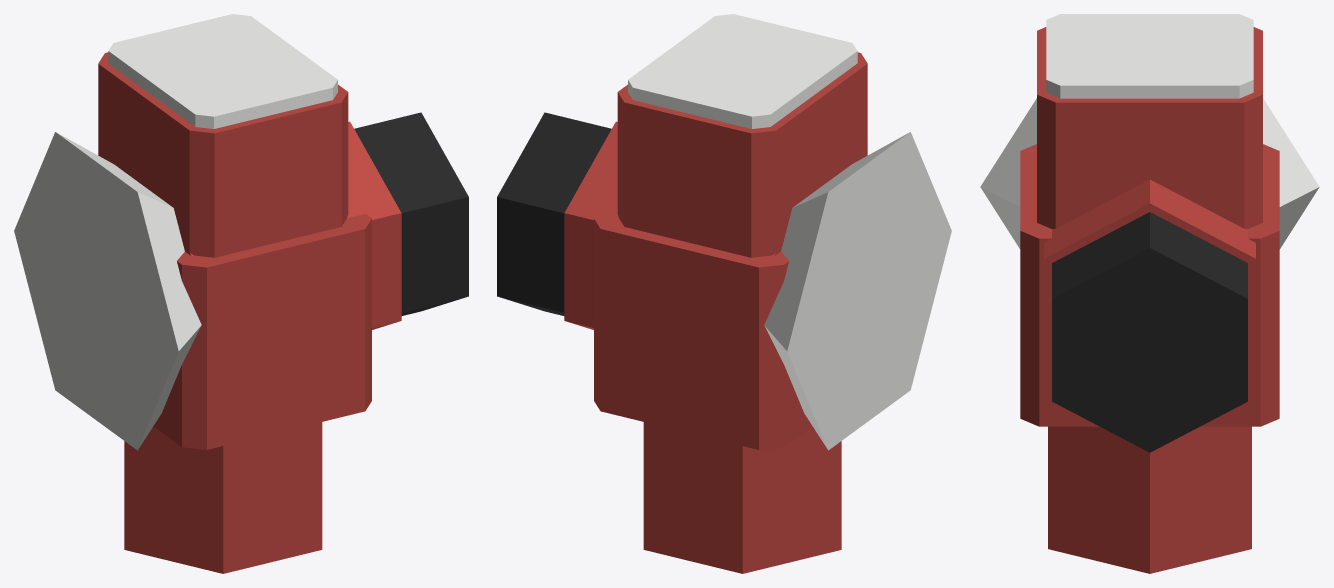
The model's file is carb_flat_lod2.glb.
3 views of the same model, side by side, from view 1: azimuth 30°, elevation 25°; view 2: azimuth 150°, elevation 25°; view 3: azimuth 270°, elevation 25° (orthographic). The views are drawn at different scales.
Parts seen in each view (by area): view 1: carb_flat_lod2; view 2: carb_flat_lod2; view 3: carb_flat_lod2.
Boxes of the visible parts, x1,y1,x2,y2 form: carb_flat_lod2: (14,14,468,573); carb_flat_lod2: (497,14,951,573); carb_flat_lod2: (980,14,1319,573).
Size of the model in its own units: 0.082 by 0.111 by 0.072.
